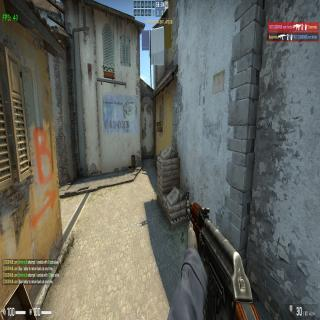CT-Head: (159, 151, 162, 156)
